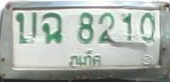txt07: (39, 11, 64, 45)
txt21: (13, 10, 38, 44)
